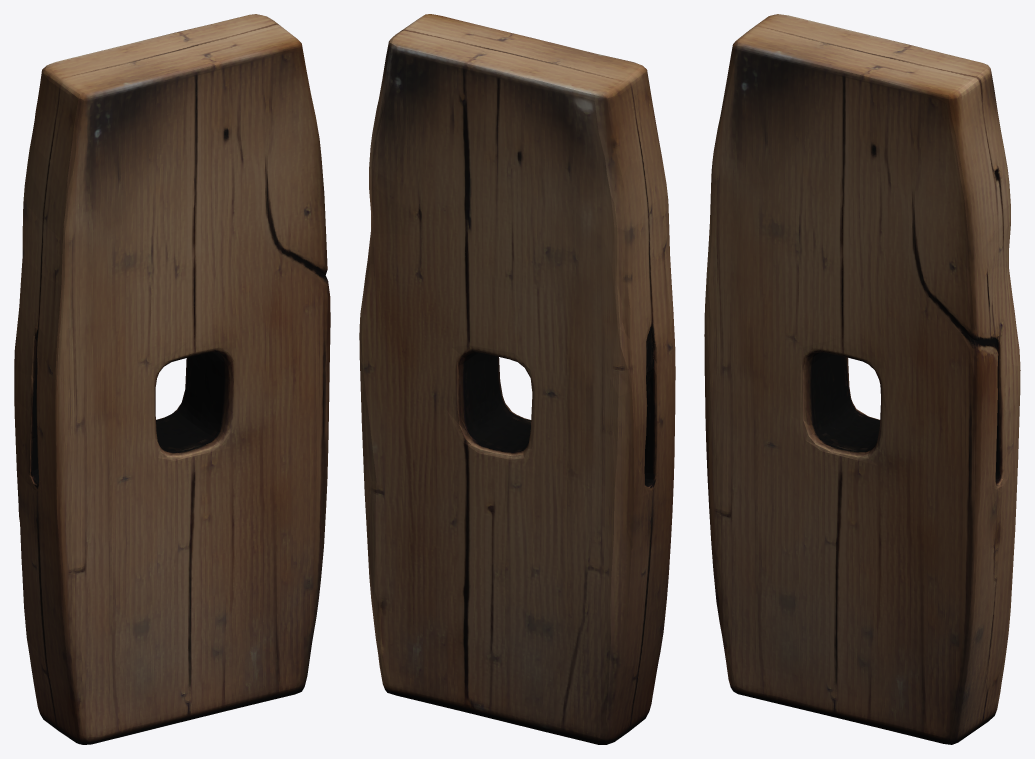
File: wooden-clothes-peg-horror.jpeg.glb
3 renders of one model, left to right at view 1: azimuth 30°, elevation 25°; view 2: azimuth 150°, elevation 25°; view 3: azimuth 330°, elevation 25°, orthographic.
Visible parts, largest first — view 1: world; view 2: world; view 3: world.
Boxes of the visible parts, <box> form: world: <box>14,14,330,744</box>; world: <box>359,14,675,744</box>; world: <box>704,14,1020,744</box>.
Bounding box in the file's own units: 0.4553 × 1 × 0.1314.
1 material, 1 textured.
